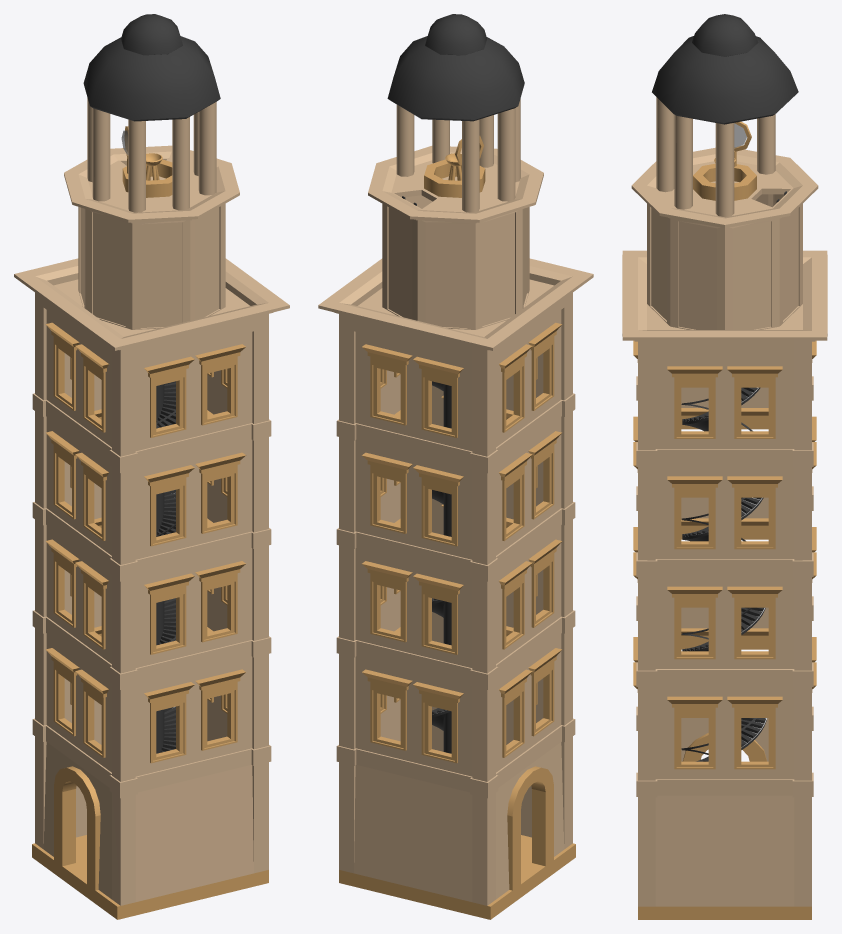
Rendered from Phare4.FBX.
3 renders of one model, left to right at view 1: azimuth 30°, elevation 25°; view 2: azimuth 150°, elevation 25°; view 3: azimuth 270°, elevation 25°, orthographic.
Visible parts, largest first — view 1: Bati00, Bati01, Toit00, Sol, Porte, Object001, Toit01, Fenetre024, Fenetre026, Fenetre030, Fenetre028, Fenetre027 (+17 smaller); view 2: Bati00, Bati01, Toit00, Sol, Porte, Toit01, Fenetre016, Fenetre022, Fenetre018, Fenetre019, Fenetre020, Fenetre021 (+18 smaller); view 3: Bati00, Bati01, Toit00, Sol, Object001, Fenetre00, Fenetre001, Fenetre002, Fenetre003, Fenetre004, Fenetre005, Toit01 (+13 smaller).
Boxes of the visible parts, x1,y1,x2,y2 form: Bati00: (14, 258, 289, 905); Bati01: (64, 145, 239, 329); Toit00: (83, 36, 220, 121); Sol: (32, 835, 268, 919); Porte: (54, 766, 100, 890); Object001: (156, 381, 175, 752); Toit01: (121, 14, 182, 55); Fenetre024: (195, 669, 245, 750); Fenetre026: (195, 561, 245, 642); Fenetre030: (195, 344, 245, 425); Fenetre028: (195, 452, 245, 533); Fenetre027: (144, 573, 194, 654); Bati00: (318, 258, 593, 905); Bati01: (368, 146, 543, 329); Toit00: (387, 36, 524, 121); Sol: (339, 835, 575, 919); Porte: (507, 766, 553, 890); Toit01: (425, 14, 486, 55); Fenetre016: (362, 669, 412, 750); Fenetre022: (362, 344, 412, 425); Fenetre018: (362, 561, 412, 642); Fenetre019: (413, 573, 463, 654); Fenetre020: (362, 452, 412, 533); Fenetre021: (413, 465, 463, 546); Bati00: (622, 250, 827, 906); Bati01: (631, 147, 818, 329); Toit00: (652, 36, 798, 124); Sol: (638, 906, 811, 919); Object001: (682, 387, 766, 761); Fenetre00: (667, 696, 722, 769); Fenetre001: (727, 696, 782, 769); Fenetre002: (667, 586, 722, 659); Fenetre003: (727, 586, 782, 659); Fenetre004: (667, 476, 722, 549); Fenetre005: (727, 476, 782, 549); Toit01: (692, 14, 758, 56).
Bounding box in the file's own units: 1182 × 5506 × 1182.
